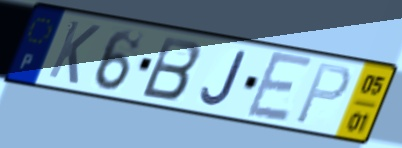6: (92, 27, 144, 93)
B: (138, 33, 205, 102)
E: (243, 48, 317, 124)
J: (199, 49, 248, 108)
K: (44, 18, 103, 87)
P: (292, 61, 354, 127)
